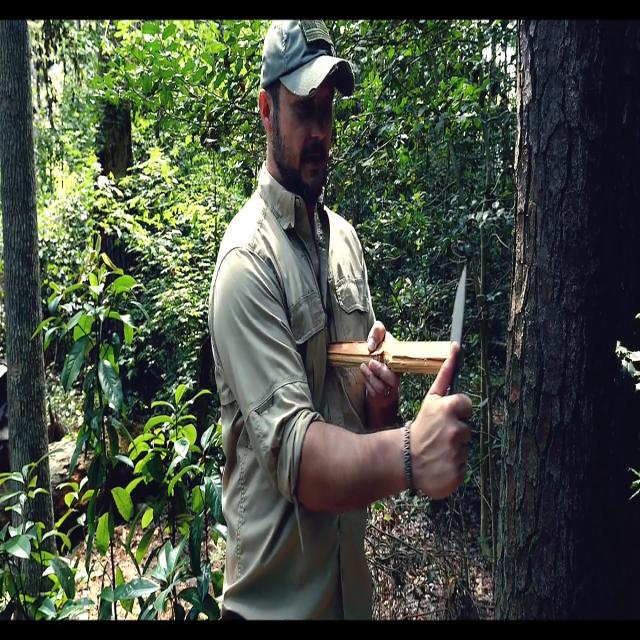knife: (454, 260, 472, 358)
